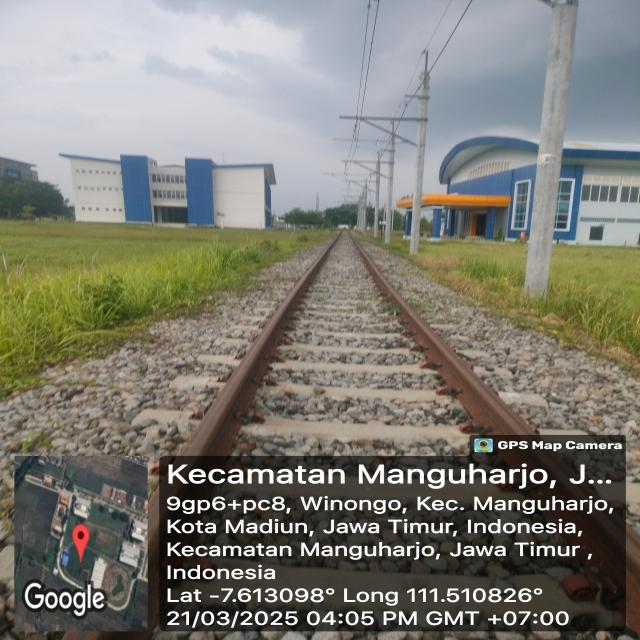rail-detection: (180, 231, 540, 455)
